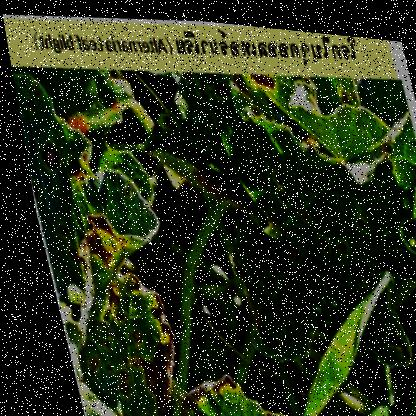AlternariaBrassicicola: (262, 160, 287, 203), (31, 137, 58, 172), (245, 264, 273, 293), (273, 233, 300, 262), (370, 220, 393, 248), (286, 197, 310, 223), (306, 223, 326, 253), (341, 202, 364, 228), (299, 270, 319, 296), (325, 231, 347, 253)
